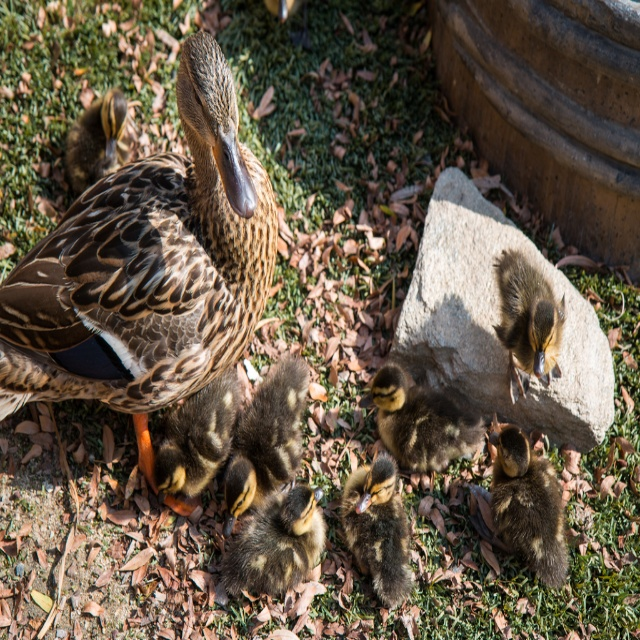Duck: (0, 27, 279, 521), (364, 369, 486, 509), (341, 448, 418, 639), (489, 430, 569, 594), (491, 243, 562, 409)
